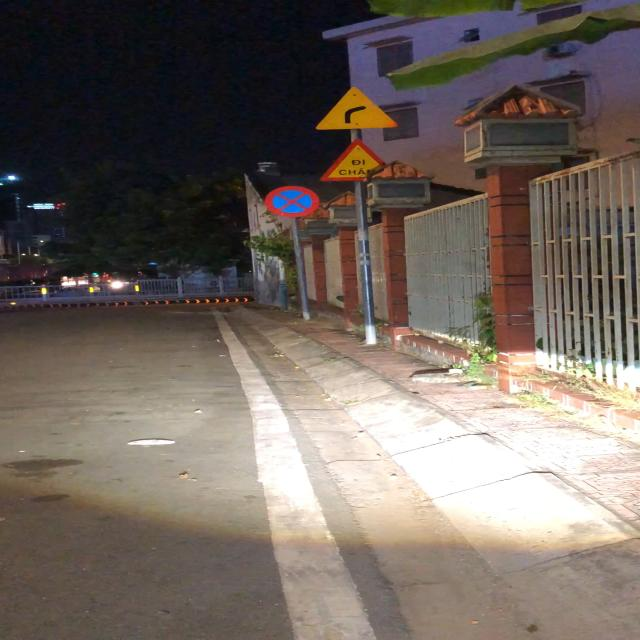Bien bao cam dung xe va do xe: (264, 185, 320, 219)
Bien bao cho ngoat nguy hiem: (313, 86, 401, 130)
Bien bao di cham: (319, 138, 392, 182)
